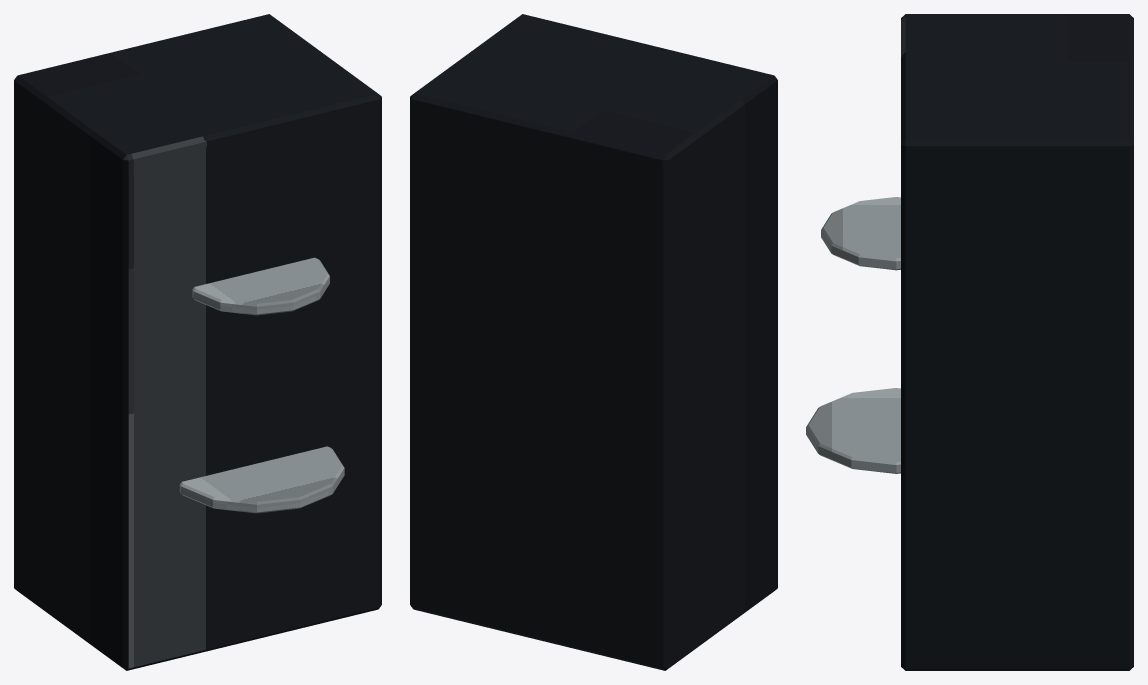
The model's file is stage_speaker.glb.
3 views of the same model, side by side, from view 1: azimuth 30°, elevation 25°; view 2: azimuth 150°, elevation 25°; view 3: azimuth 270°, elevation 25° (orthographic). The views are drawn at different scales.
Parts seen in each view (by area): view 1: SpeakerCabinet, SpeakerCone_0.52, SpeakerCone_1.1; view 2: SpeakerCabinet; view 3: SpeakerCabinet, SpeakerCone_0.52, SpeakerCone_1.1.
Boxes of the visible parts, bbox=[...] form: SpeakerCabinet: bbox=[14, 14, 381, 670]; SpeakerCone_0.52: bbox=[179, 446, 344, 513]; SpeakerCone_1.1: bbox=[192, 257, 329, 315]; SpeakerCabinet: bbox=[410, 14, 777, 670]; SpeakerCabinet: bbox=[901, 14, 1133, 670]; SpeakerCone_0.52: bbox=[806, 388, 900, 473]; SpeakerCone_1.1: bbox=[821, 197, 900, 270].
Size of the model in its own units: 0.82 by 1.56 by 0.873.
Materials: 1 (1 with a texture image).
